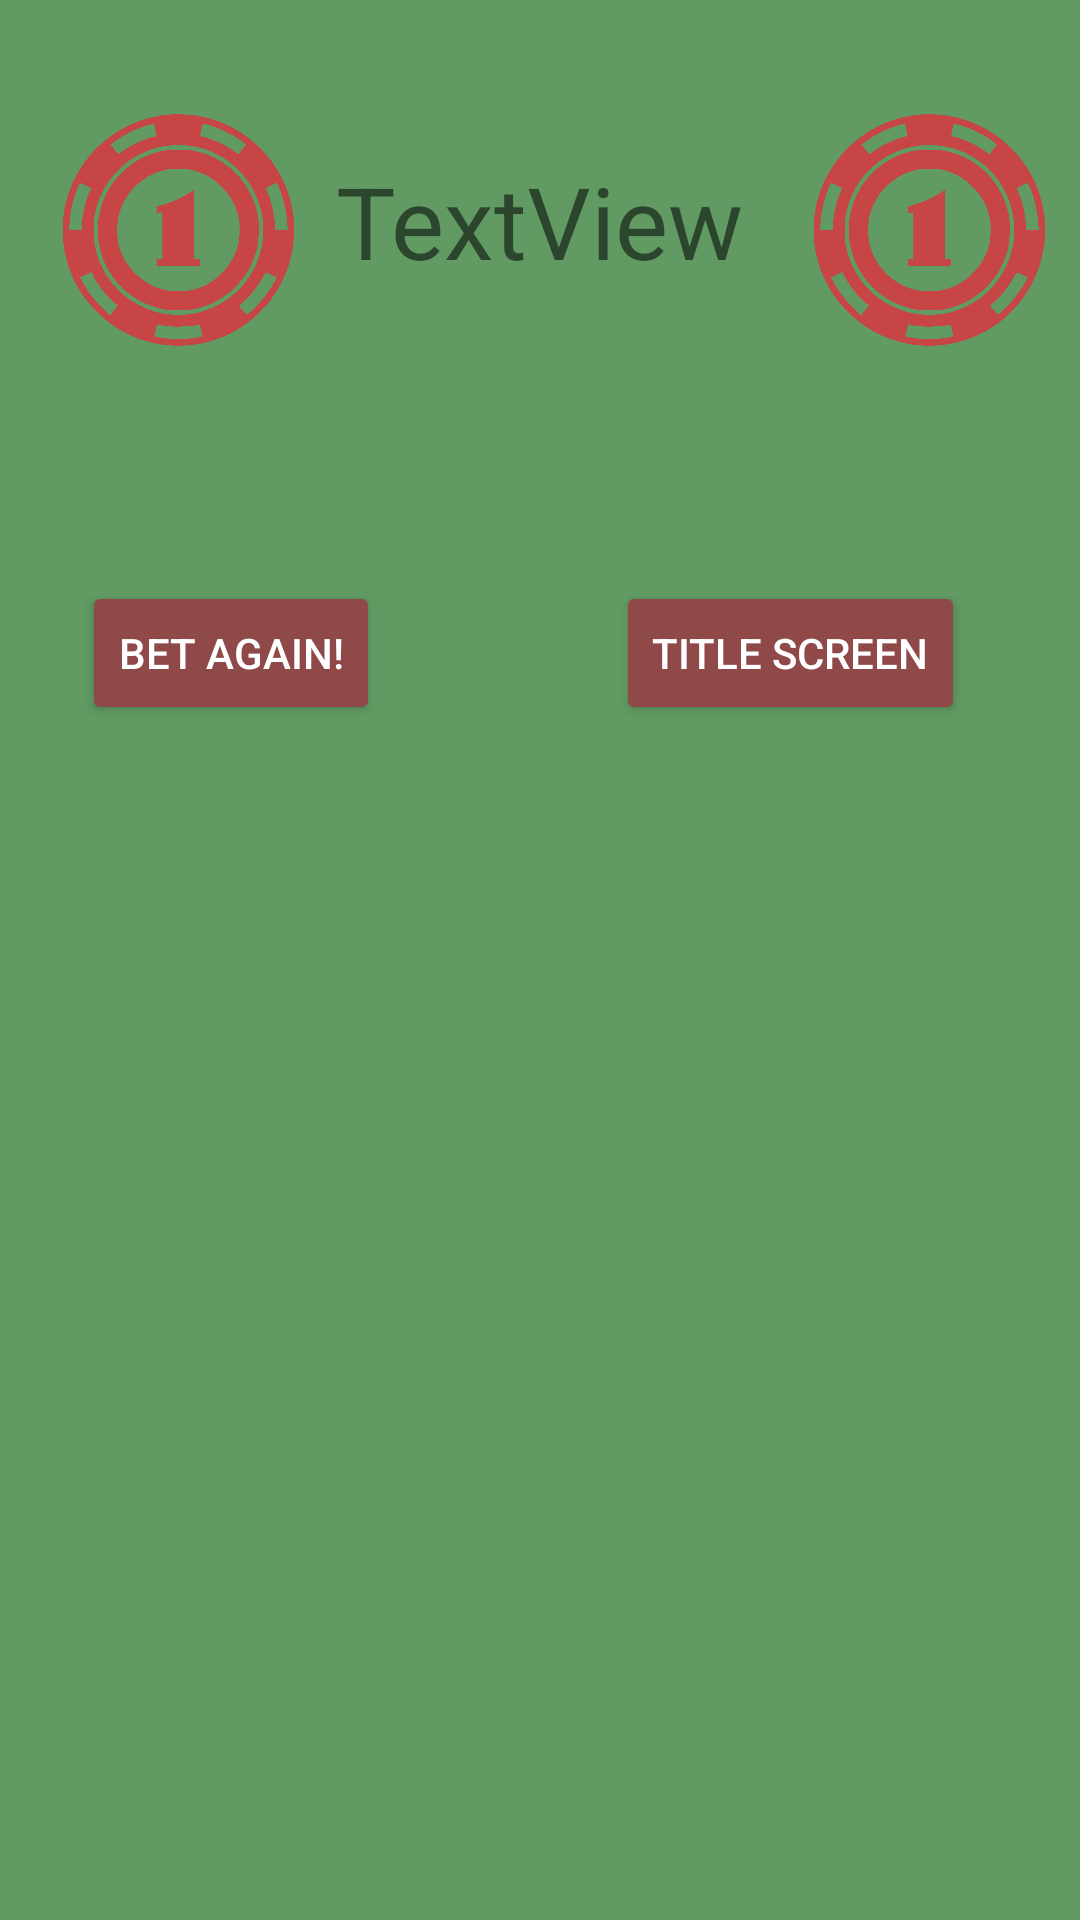

Locate icon controls on the screen. Image size 1080x1920, boxes as (x1, y1, x2, y2).
chip: (63, 114, 294, 346), (814, 114, 1045, 346)
